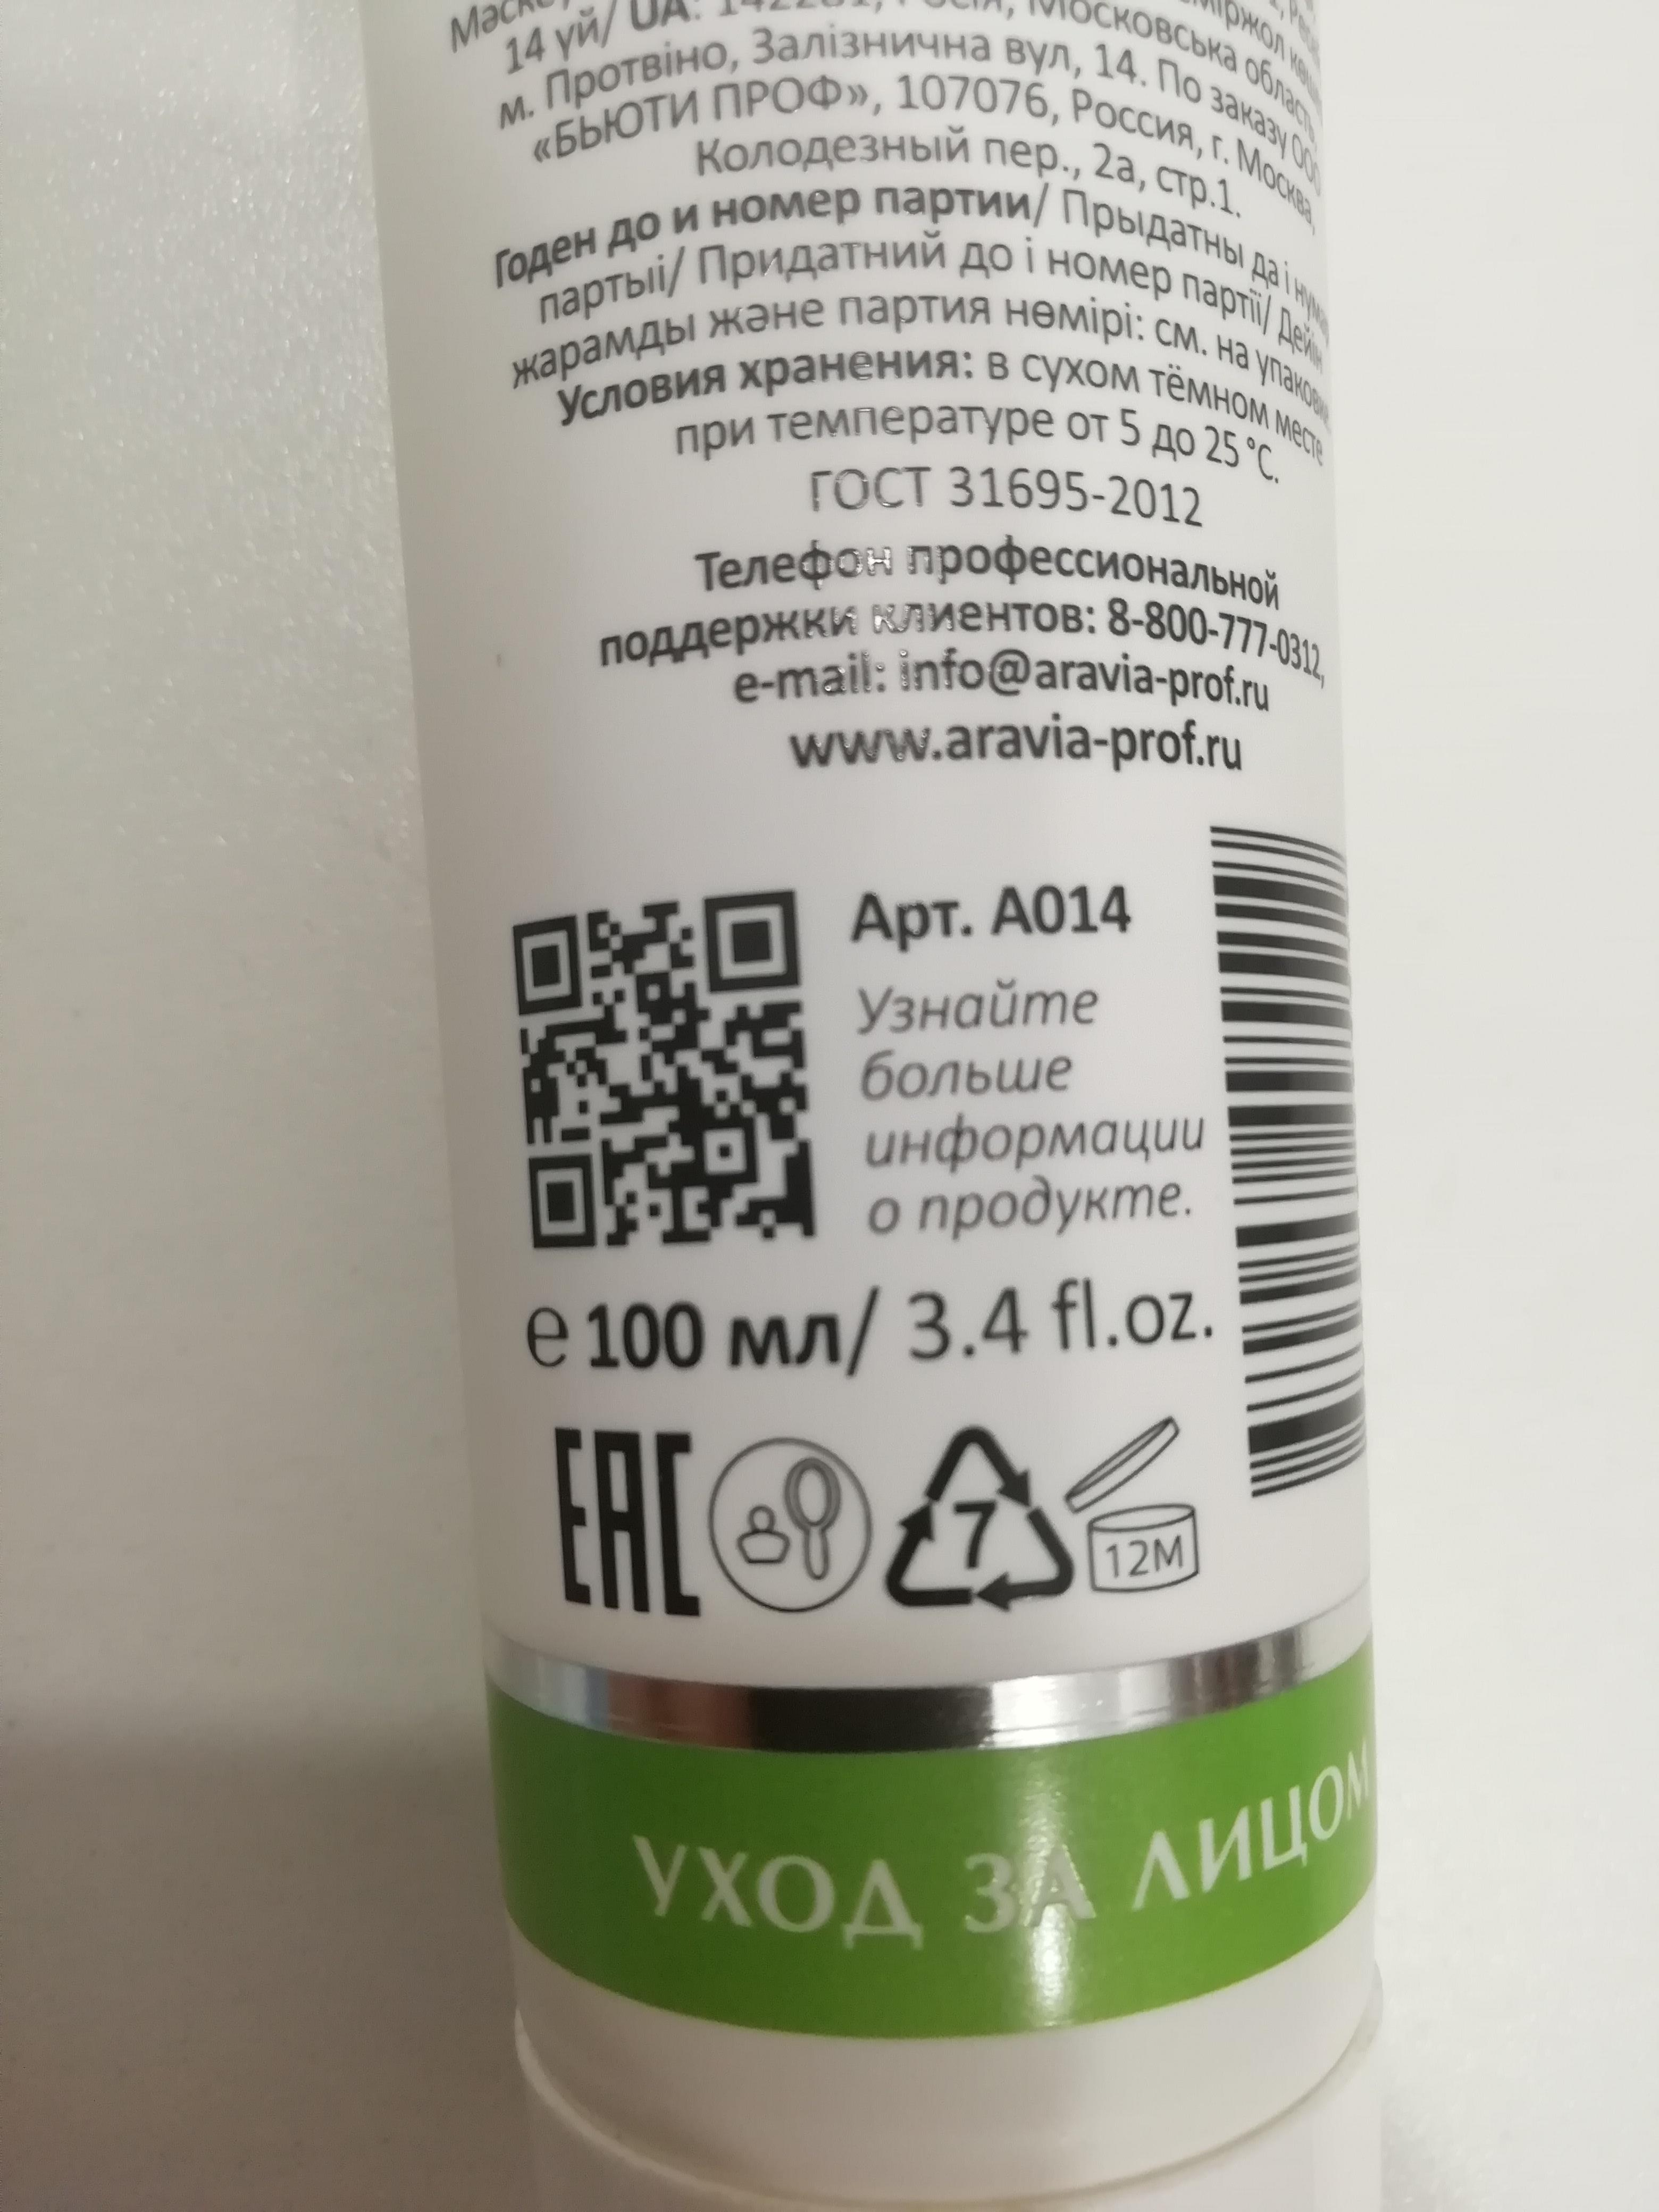qrcode: (511, 887, 819, 1251)
